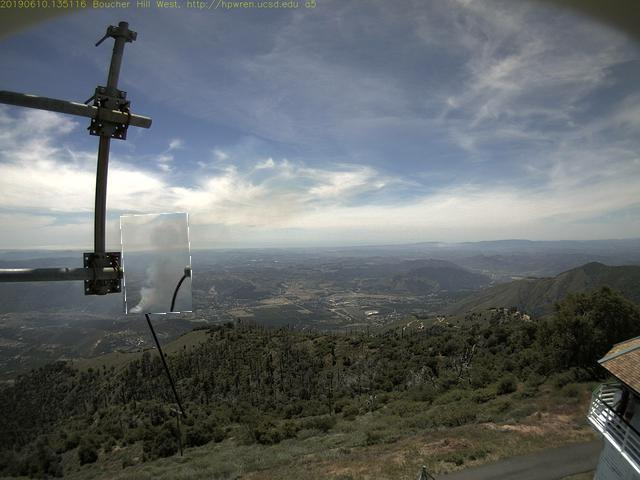smoke: (123, 214, 193, 315)
